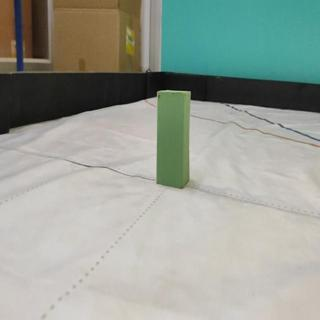greenbox: (155, 87, 192, 189)
